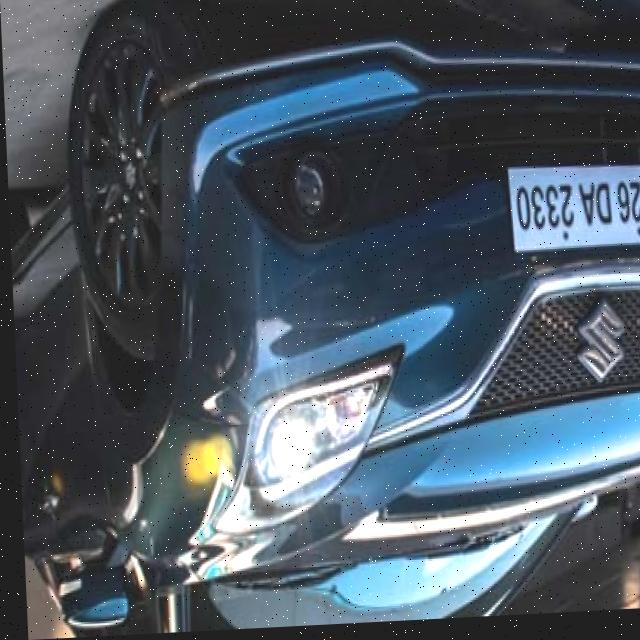plate: (509, 169, 640, 259)
